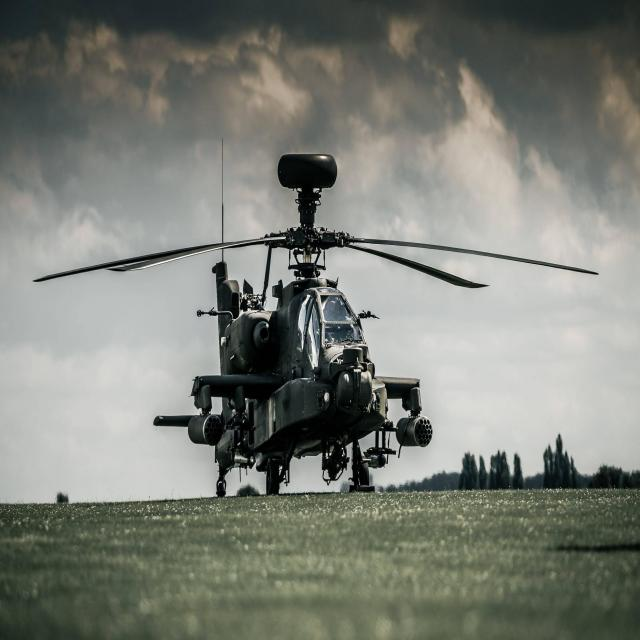MIL_HELO: (15, 143, 607, 494)
